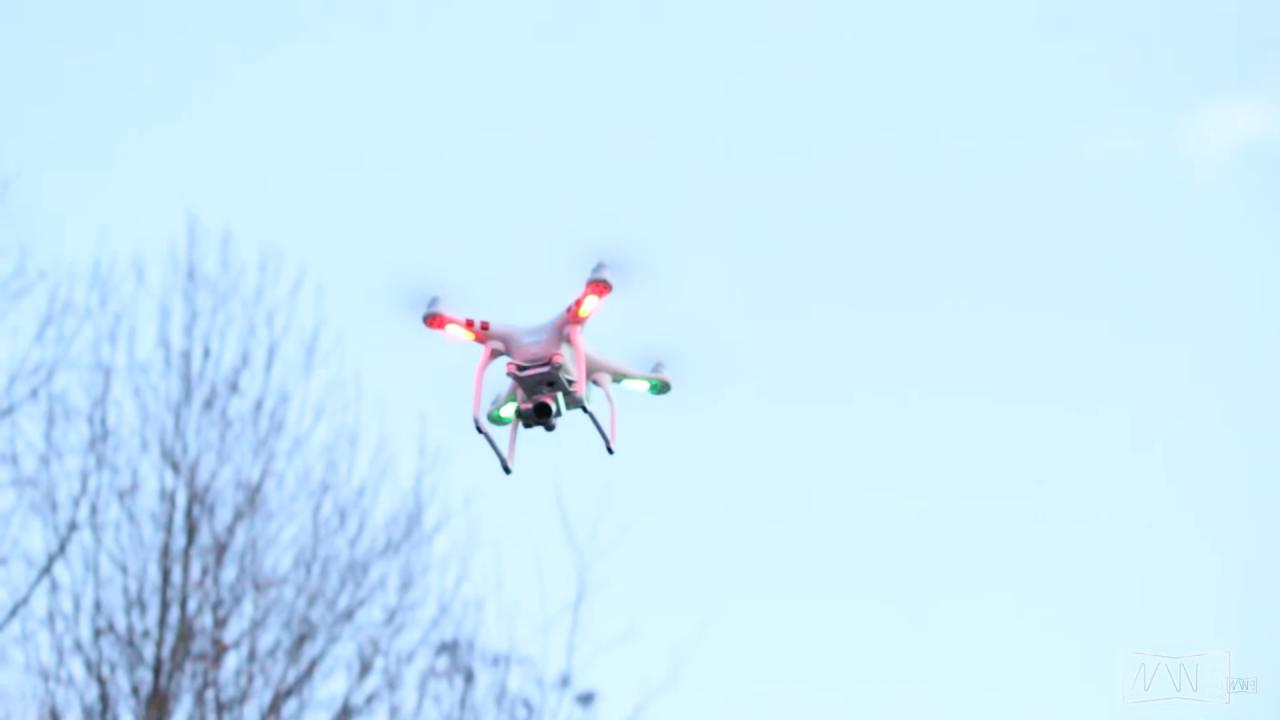Drone: (404, 252, 684, 485)
